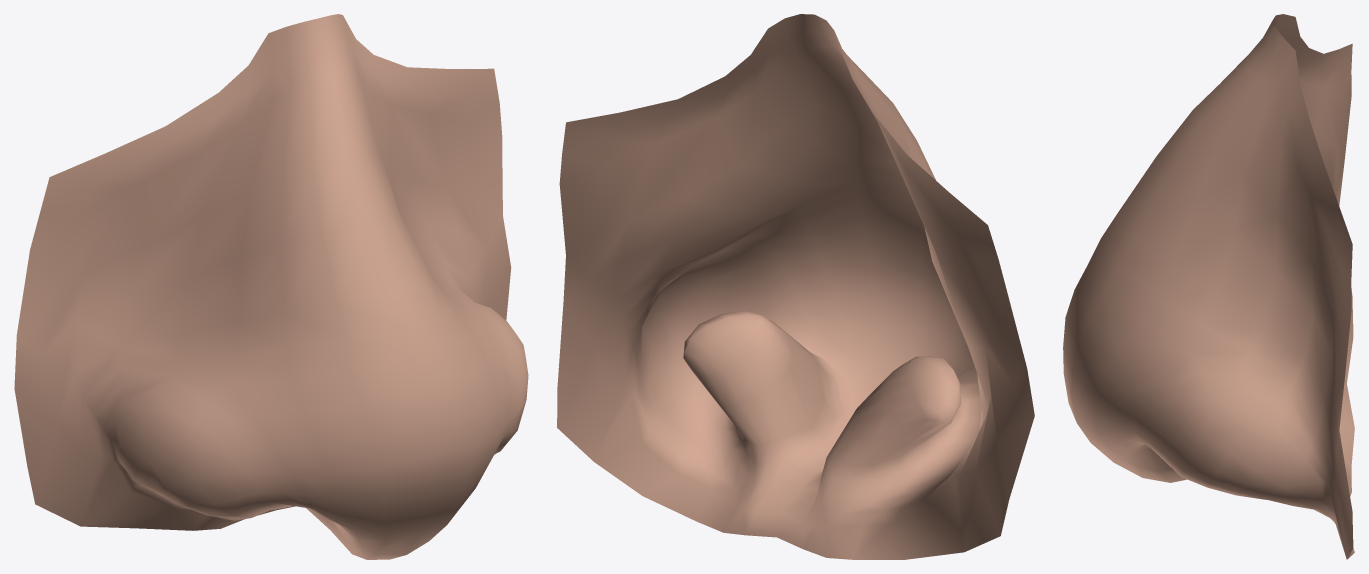
Rendered from nose_4.fbx.
The picture shows the model from 3 angles, left to right: view 1: azimuth 30°, elevation 25°; view 2: azimuth 150°, elevation 25°; view 3: azimuth 270°, elevation 25°; orthographic projection. The views are drawn at different scales.
Parts seen in each view (by area): view 1: pasted__nose; view 2: pasted__nose; view 3: pasted__nose.
Part boxes in pixels (x1,y1,x2,y2): pasted__nose: (14,14,528,559); pasted__nose: (557,14,1034,559); pasted__nose: (1063,14,1354,559).
Size of the model in its own units: 0.098 by 0.0995 by 0.0539.
